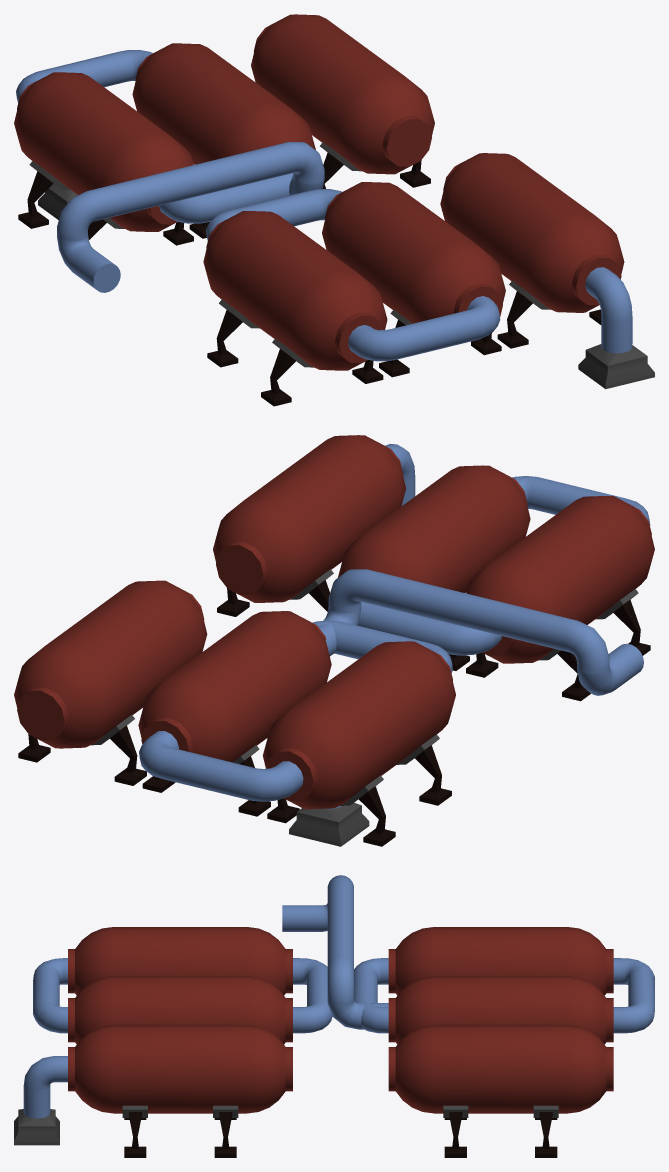
The model's file is Storage.FBX.
3 renders of one model, top to bottom at view 1: azimuth 30°, elevation 25°; view 2: azimuth 150°, elevation 25°; view 3: azimuth 270°, elevation 25°, orthographic. The views are drawn at different scales.
Parts seen in each view (by area): view 1: Baloon (×3), Cylinder002, Tube007, Leg2 (×3), Tube008, DownTube, Tube004, Tube006, DownTubeShell, Leg1 (×2), Support, DownTubeShell001; view 2: Baloon (×3), Cylinder002, Tube004, Leg2 (×3), Tube006, DownTubeShell001, Tube007, Leg1 (×2), Tube008, Support, DownTube; view 3: Baloon (×3), Cylinder002, Tube004, Leg1, Tube006, Tube007, Tube008, DownTube, DownTubeShell, Support.
Boxes of the visible parts, <box> form: Baloon (×3): <box>14,14,624,370</box>; Cylinder002: <box>57,142,324,292</box>; Tube007: <box>348,296,500,361</box>; Leg2 (×3): <box>18,152,532,406</box>; Tube008: <box>159,173,293,223</box>; DownTube: <box>585,267,632,353</box>; Tube004: <box>16,50,152,103</box>; Tube006: <box>206,189,341,240</box>; DownTubeShell: <box>578,344,654,389</box>; Leg1 (×2): <box>163,160,601,383</box>; Support: <box>29,161,313,367</box>; DownTubeShell001: <box>38,183,77,219</box>; Baloon (×3): <box>14,435,654,809</box>; Cylinder002: <box>318,569,643,695</box>; Tube004: <box>139,731,303,801</box>; Leg2 (×3): <box>110,580,650,846</box>; Tube006: <box>358,601,501,655</box>; DownTubeShell001: <box>289,802,369,846</box>; Tube007: <box>512,476,650,525</box>; Leg1 (×2): <box>18,588,498,823</box>; Tube008: <box>312,620,452,672</box>; Support: <box>340,589,638,805</box>; DownTube: <box>385,443,415,506</box>; Baloon (×3): <box>68,927,613,1113</box>; Cylinder002: <box>282,875,388,1029</box>; Tube004: <box>613,958,654,1033</box>; Leg1: <box>124,1112,557,1157</box>; Tube006: <box>293,958,332,1033</box>; Tube007: <box>33,958,67,1033</box>; Tube008: <box>354,958,388,1033</box>; DownTube: <box>23,1056,67,1118</box>; DownTubeShell: <box>14,1109,59,1145</box>; Support: <box>122,1105,558,1117</box>.
Bounding box in the file's own units: 476 × 141 × 720.
